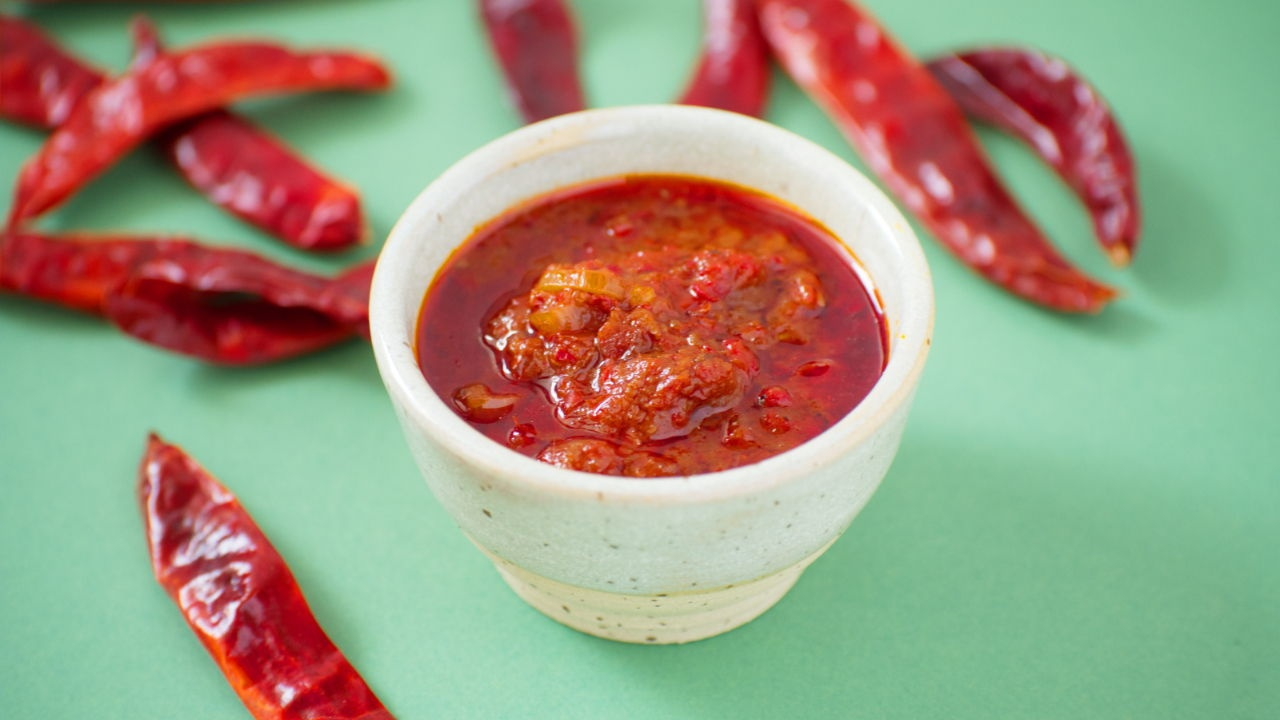sambal: (441, 178, 833, 475)
